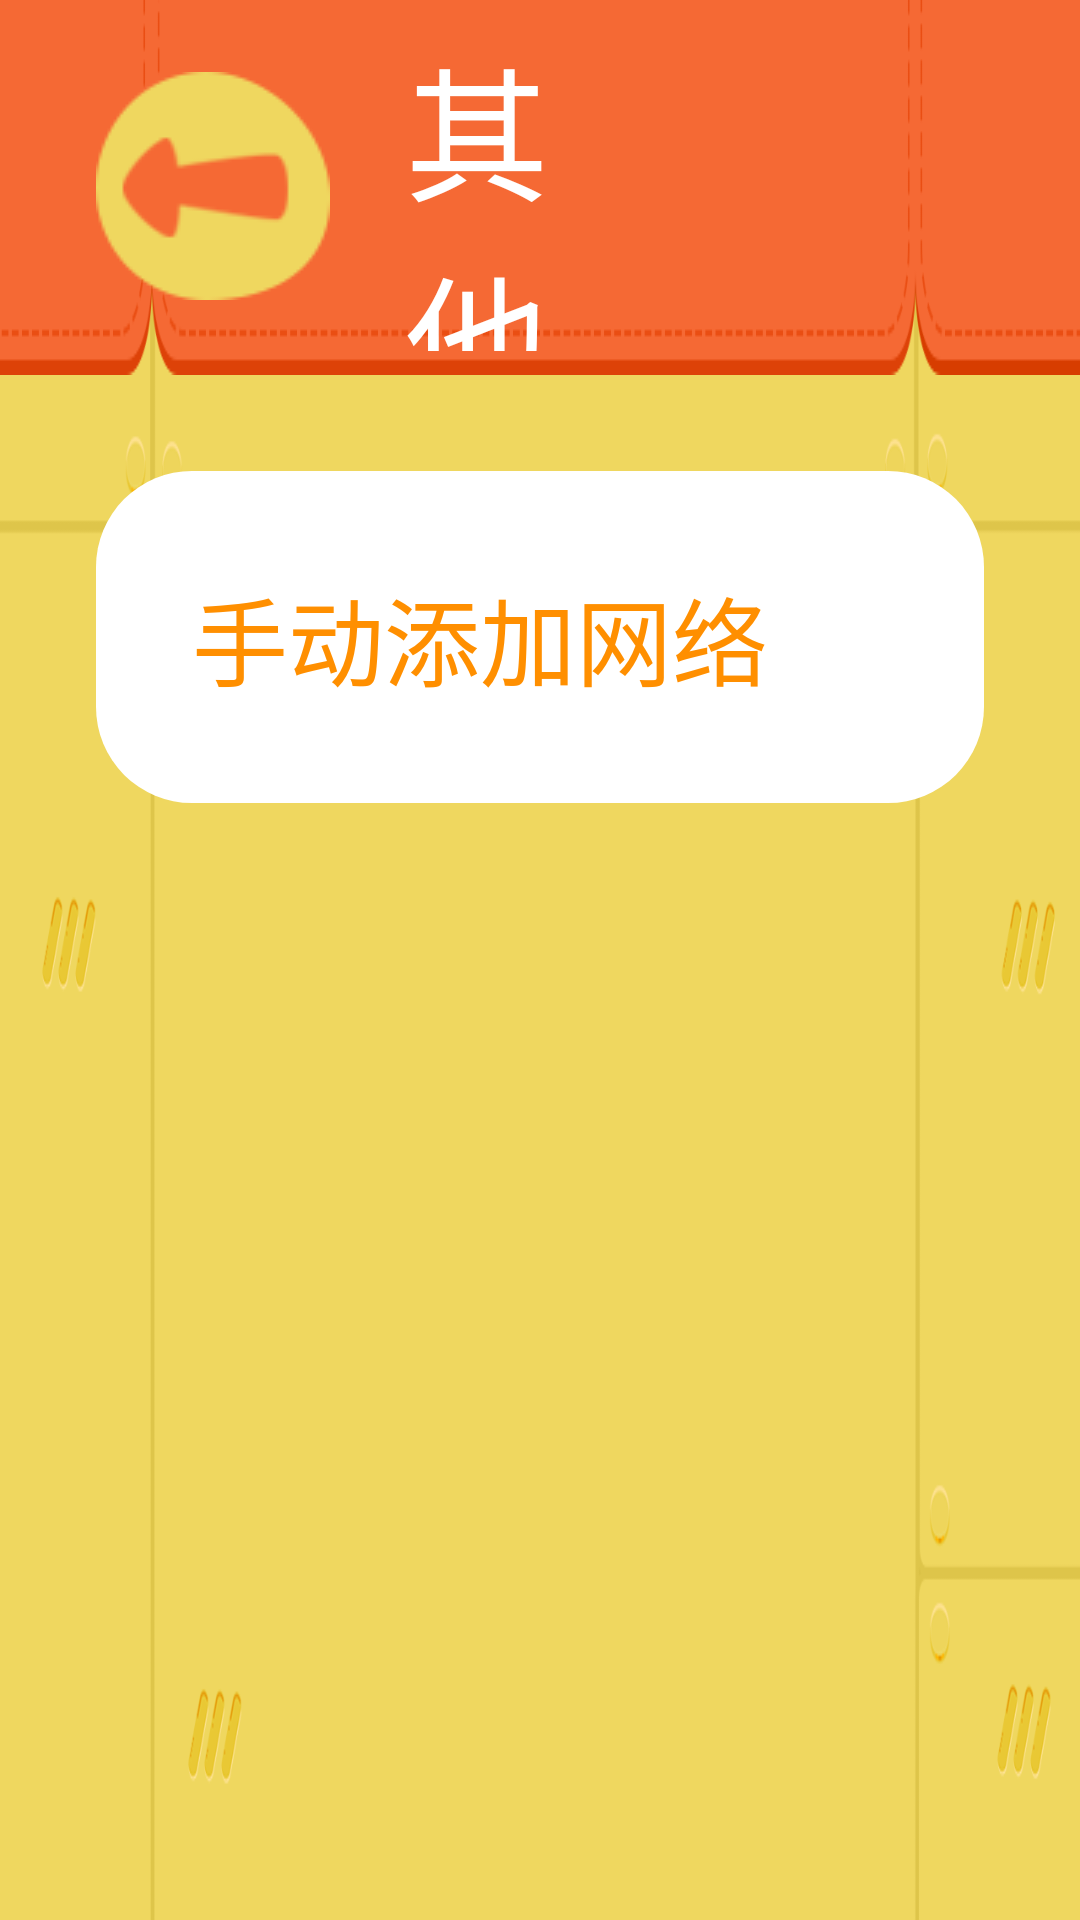

Icons on this 1080 x 1920 Android screen, each with the point to tap as (x,y):
guide back: (215,181)
